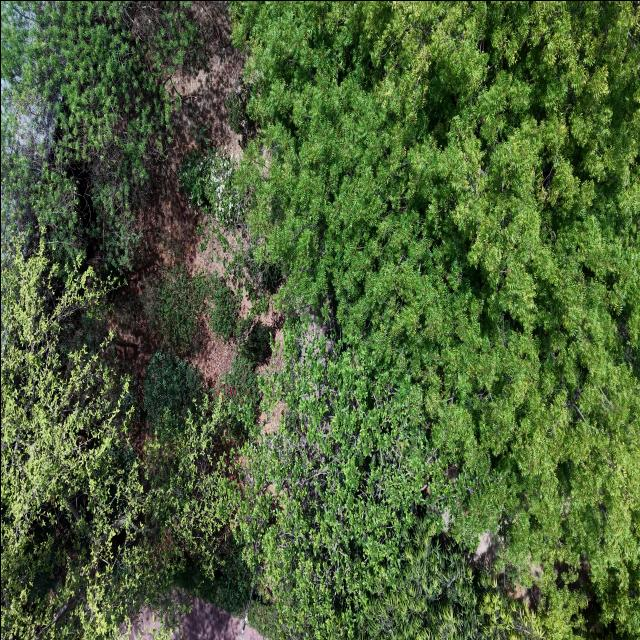DRY_AREA: (109, 3, 243, 382), (110, 1, 244, 380), (110, 1, 243, 381), (110, 1, 243, 379), (126, 3, 243, 296), (139, 1, 244, 264), (141, 3, 243, 269), (159, 1, 243, 277), (168, 4, 244, 156), (170, 598, 263, 639), (178, 598, 263, 639), (192, 328, 235, 386), (192, 330, 235, 385), (193, 332, 234, 385), (499, 565, 542, 609), (257, 314, 282, 376)
VEGETATION_TREE: (1, 1, 639, 639), (232, 1, 639, 639), (1, 4, 248, 639), (1, 3, 228, 639), (236, 331, 541, 639), (1, 243, 228, 639), (1, 241, 166, 639), (1, 1, 203, 270), (359, 518, 544, 639), (179, 148, 281, 316), (142, 394, 232, 584), (142, 264, 237, 355), (179, 149, 241, 229), (142, 352, 203, 432), (215, 354, 259, 439), (206, 277, 237, 339)
